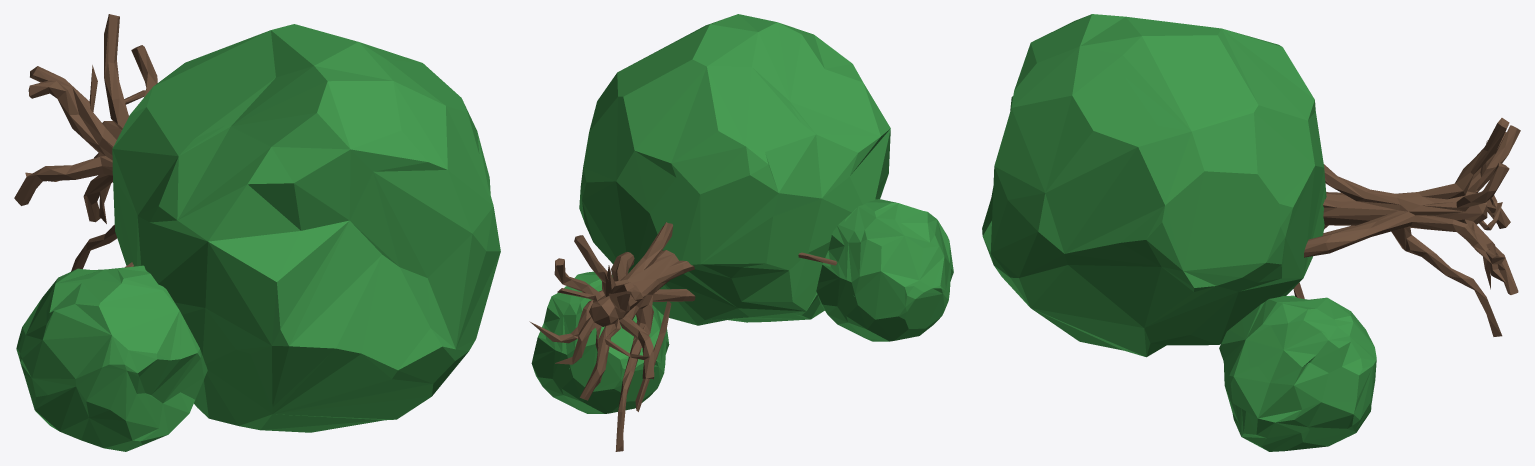
The model's file is tree5.fbx.
The picture shows the model from 3 angles, left to right: view 1: azimuth 30°, elevation 25°; view 2: azimuth 150°, elevation 25°; view 3: azimuth 270°, elevation 25°; orthographic projection. The views are drawn at different scales.
Parts seen in each view (by area): view 1: Group57054.001, Group46276.001, Tree10; view 2: Group57054.001, Group46276.001, Tree10, Group57055.001; view 3: Group57054.001, Group57055.001, Tree10.
Part boxes in pixels (x1,y1,x2,y2): Group57054.001: [112, 24, 500, 432]; Group46276.001: [16, 265, 207, 451]; Tree10: [14, 14, 157, 271]; Group57054.001: [579, 14, 890, 325]; Group46276.001: [816, 199, 953, 341]; Tree10: [529, 222, 837, 451]; Group57055.001: [531, 271, 669, 413]; Group57054.001: [982, 14, 1326, 357]; Group57055.001: [1219, 295, 1376, 451]; Tree10: [1293, 118, 1520, 336].
Bounding box in the file's own units: 5139 × 4866 × 6073.
